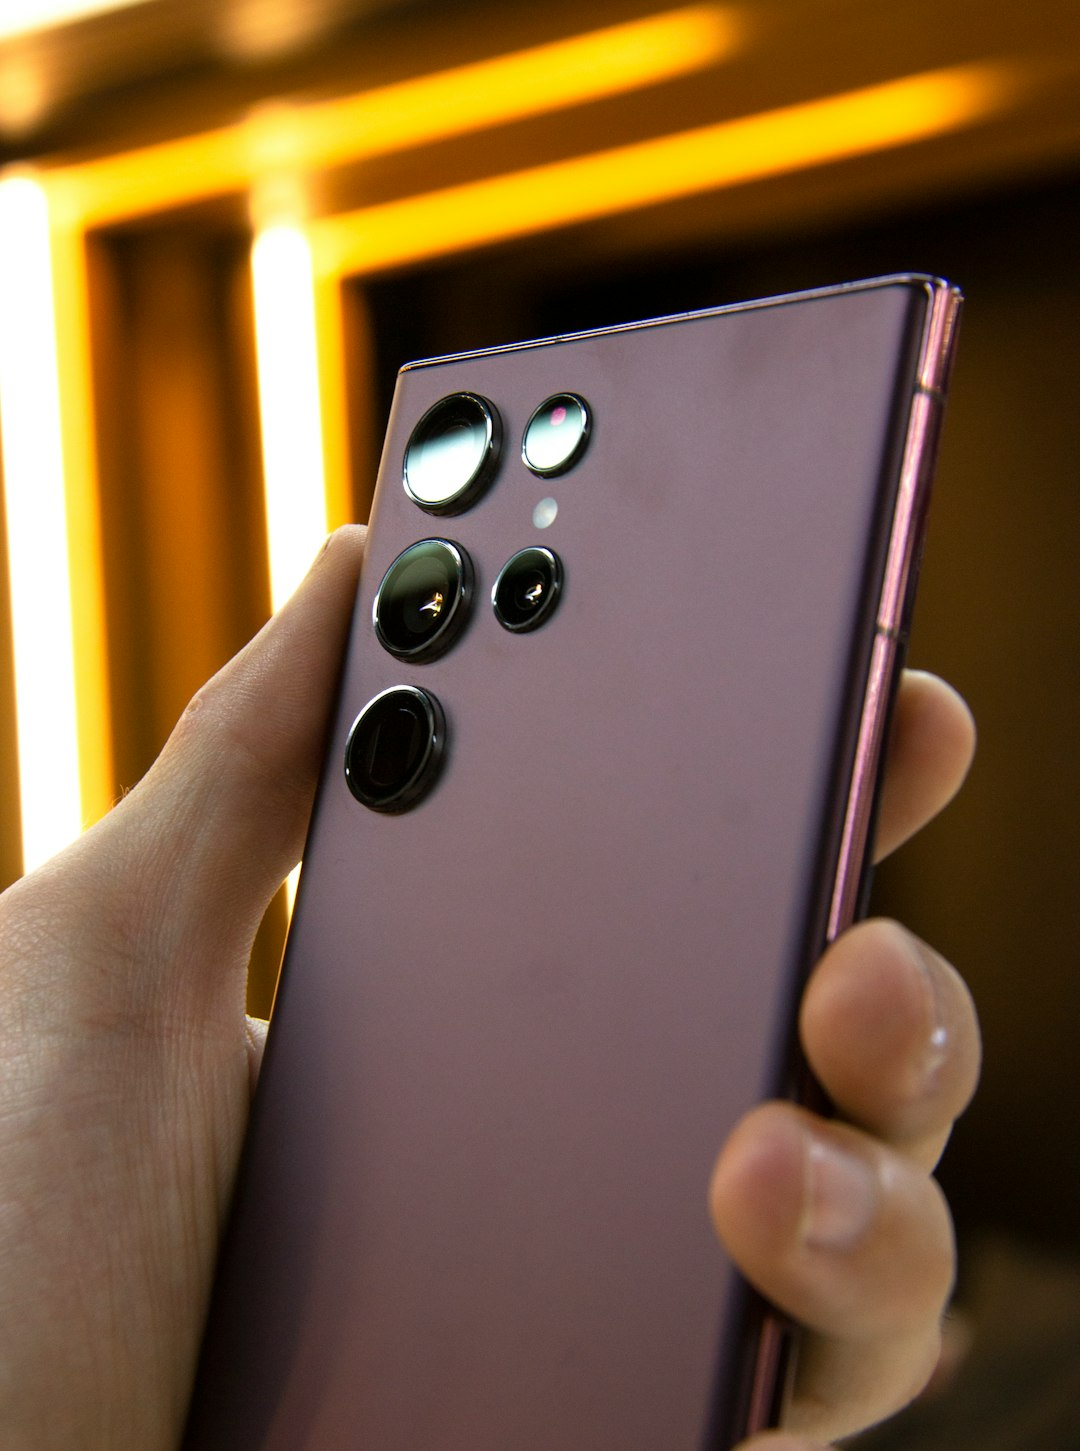phone: (174, 269, 969, 1451)
